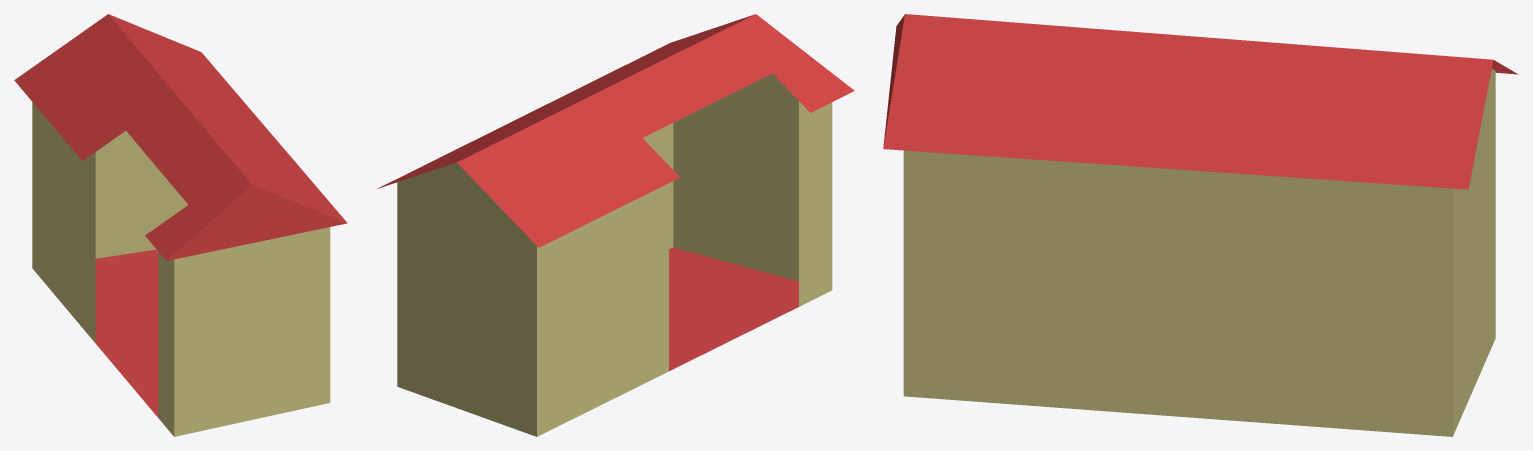
The picture shows the model from 3 angles, left to right: view 1: azimuth 30°, elevation 25°; view 2: azimuth 150°, elevation 25°; view 3: azimuth 270°, elevation 25°; orthographic projection. The views are drawn at different scales.
Visible parts, largest first — view 1: group_5, group_3, group_6, group_4; view 2: group_5, group_3, group_6, group_4; view 3: group_5, group_3.
Boxes of the visible parts, box(x1,y1,x2,y2) form: group_5: box(32, 102, 330, 436); group_3: box(14, 14, 347, 260); group_6: box(95, 249, 158, 417); group_4: box(17, 78, 171, 259); group_5: box(397, 73, 832, 436); group_3: box(377, 14, 854, 247); group_6: box(669, 247, 798, 371); group_4: box(538, 86, 849, 246); group_5: box(903, 69, 1495, 436); group_3: box(883, 14, 1518, 189).
Bounding box in the file's own units: 14.75 × 24.22 × 13.86.
